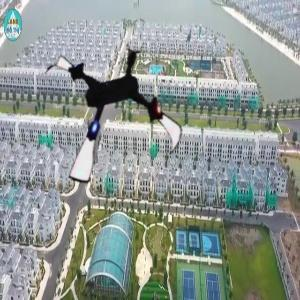drone: (32, 37, 190, 195)
